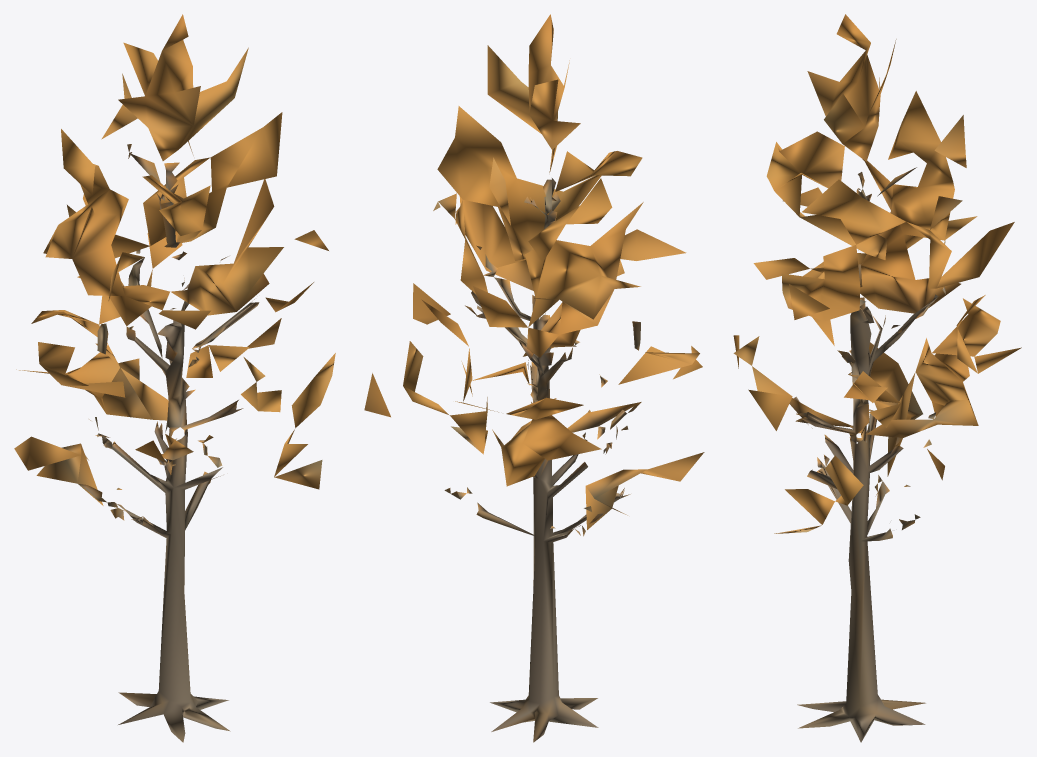
File: ginkgo_a_l1.glb
The picture shows the model from 3 angles, left to right: view 1: azimuth 30°, elevation 25°; view 2: azimuth 150°, elevation 25°; view 3: azimuth 270°, elevation 25°; orthographic projection.
Visible parts, largest first — view 1: crown, trunk; view 2: crown, trunk; view 3: crown, trunk.
Part boxes in pixels (x1,y1,x2,y2): crown: (14, 14, 335, 505); trunk: (78, 144, 259, 742); crown: (364, 14, 704, 529); trunk: (433, 178, 641, 742); crown: (733, 14, 1021, 533); trunk: (793, 172, 945, 742).
Bounding box in the file's own units: 5.4 × 11.76 × 4.37.
